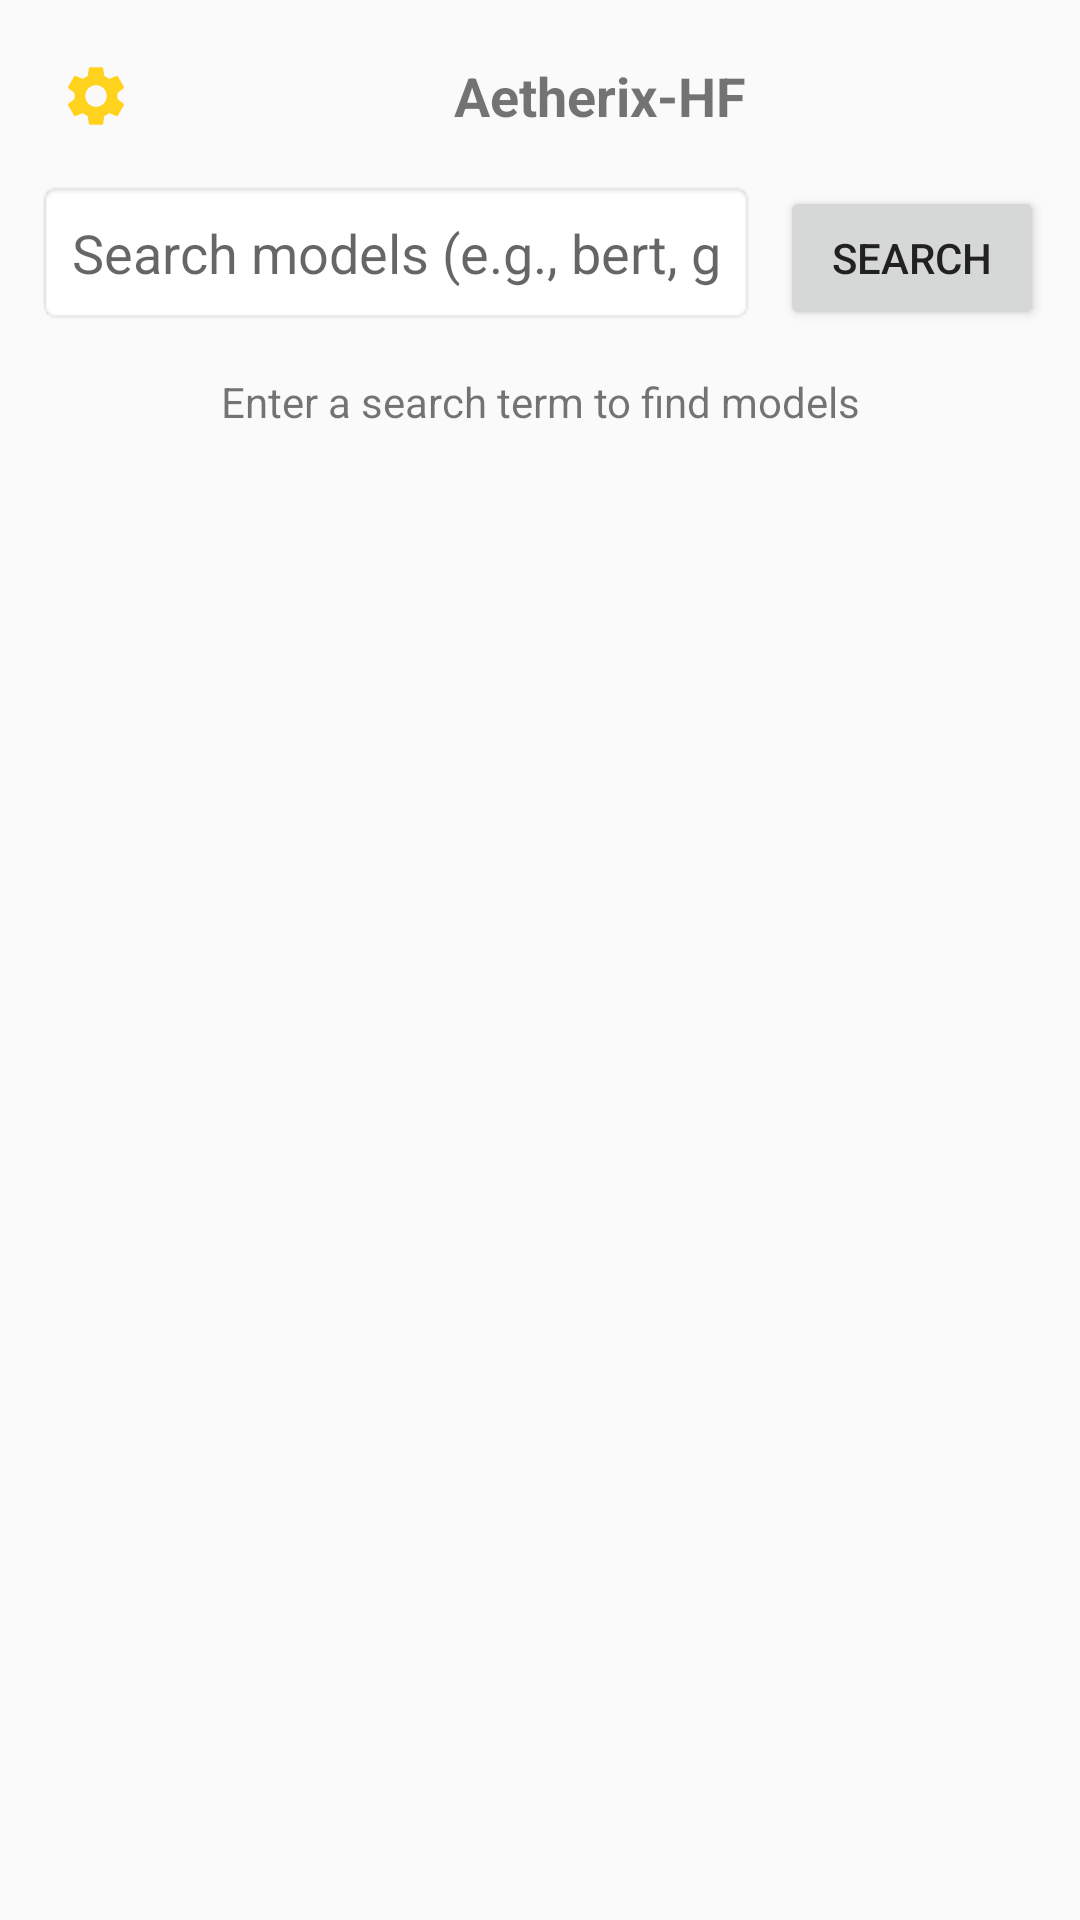

Named icons in this screenshot (1080w x 1920h) and their bounding boxes, (x1, y1, x2, y2):
Settings: (68, 67, 124, 125)
